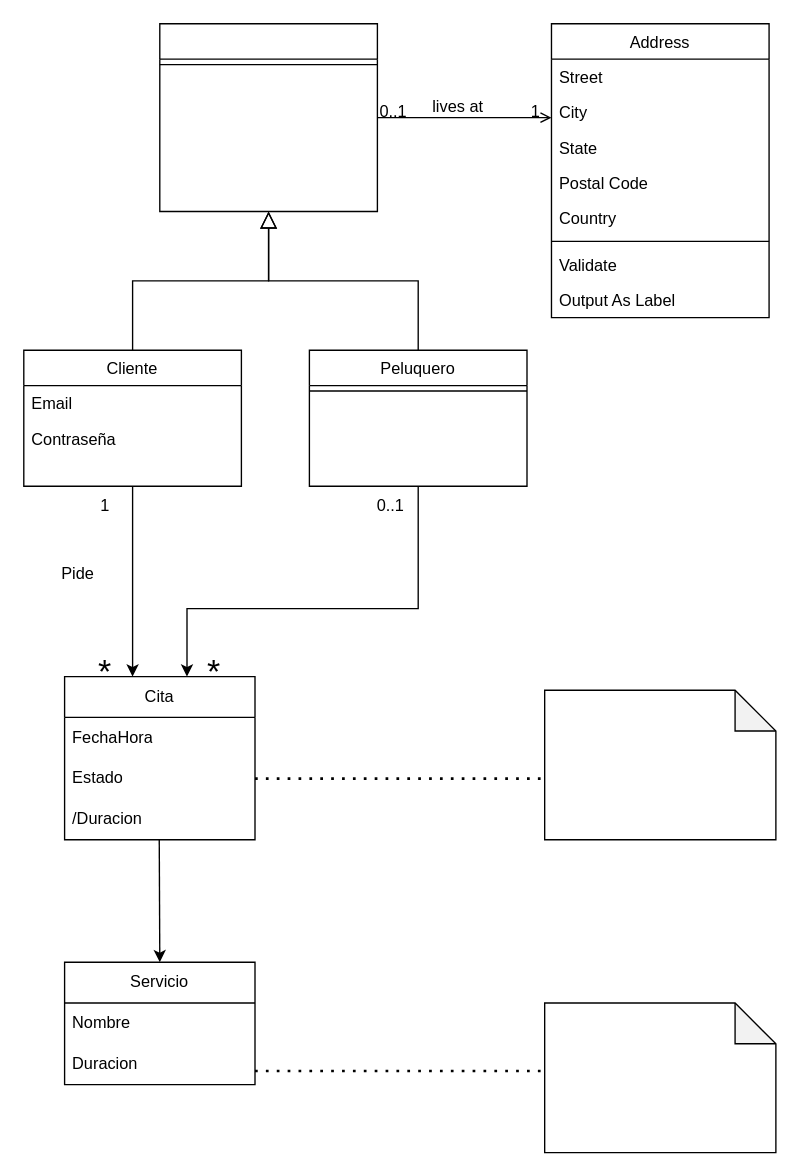
This 800x1176 diagram has some shape labels left out. The centre of each missing label's shape, as x and y in pixels:
"RN-001: La hora debe estar entre las 8 am y las 8 pm" goes at pixel 659 764.
"RN-002: La fecha no puede caer en domingo" goes at pixel 659 1077.
"Usuario" goes at pixel 267 116.
